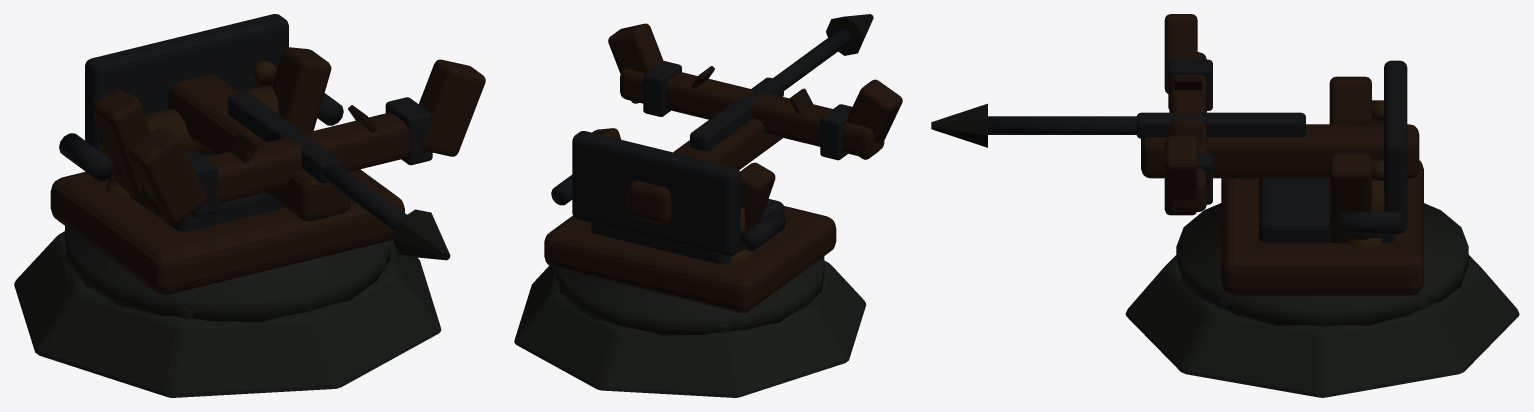
File: TowerSeed2.obj
3 views of the same model, side by side, from view 1: azimuth 30°, elevation 25°; view 2: azimuth 150°, elevation 25°; view 3: azimuth 270°, elevation 25° (orthographic). The views are drawn at different scales.
Parts seen in each view (by area): view 1: limestone_socket_lower_course, oak_bed, cut_stone_course, armoured_mantlet, oak_bow_crossbar, ballista_stock, bow_tip, bow_tip.001, oak_A_frame.001, oak_A_frame, iron_guide, bolt_head (+9 smaller); view 2: limestone_socket_lower_course, oak_bed, armoured_mantlet, cut_stone_course, oak_bow_crossbar, ballista_stock, iron_guide, bow_tip, bow_tip.001, iron_turntable, oak_A_frame, iron_bolt (+6 smaller); view 3: limestone_socket_lower_course, oak_bed, cut_stone_course, ballista_stock, iron_turntable, armoured_mantlet, iron_guide, oak_A_frame.001, iron_bolt, oak_bow_crossbar, bow_tip.001, oak_A_frame (+5 smaller).
Boxes of the visible parts, box(x1,y1,x2,y2) form: limestone_socket_lower_course: box(14, 231, 441, 397); oak_bed: box(50, 169, 404, 294); cut_stone_course: box(65, 226, 390, 322); armoured_mantlet: box(85, 14, 288, 150); oak_bow_crossbar: box(142, 112, 409, 216); ballista_stock: box(168, 74, 350, 221); bow_tip: box(128, 127, 206, 224); bow_tip.001: box(419, 59, 485, 156); oak_A_frame.001: box(272, 47, 331, 132); oak_A_frame: box(92, 89, 150, 202); iron_guide: box(227, 92, 341, 183); bolt_head: box(392, 209, 450, 260); limestone_socket_lower_course: box(514, 260, 865, 397); oak_bed: box(544, 206, 836, 312); armoured_mantlet: box(572, 131, 740, 256); cut_stone_course: box(556, 256, 824, 335); oak_bow_crossbar: box(620, 69, 884, 157); ballista_stock: box(628, 118, 782, 223); iron_guide: box(690, 77, 783, 150); bow_tip: box(847, 79, 902, 159); bow_tip.001: box(608, 23, 663, 103); iron_turntable: box(591, 199, 784, 264); oak_A_frame: box(737, 162, 775, 252); iron_bolt: box(773, 28, 851, 90); limestone_socket_lower_course: box(1125, 255, 1519, 397); oak_bed: box(1221, 160, 1423, 295); cut_stone_course: box(1176, 203, 1468, 326); ballista_stock: box(1141, 124, 1419, 178); iron_turntable: box(1259, 178, 1395, 242); armoured_mantlet: box(1384, 60, 1407, 233); iron_guide: box(1136, 112, 1305, 138); oak_A_frame.001: box(1329, 154, 1371, 243); iron_bolt: box(988, 116, 1137, 134); oak_bow_crossbar: box(1169, 52, 1206, 211); bow_tip.001: box(1164, 136, 1197, 215); oak_A_frame: box(1329, 76, 1371, 124).
Size of the model in its own units: 1.67 by 1.12 by 2.5.
